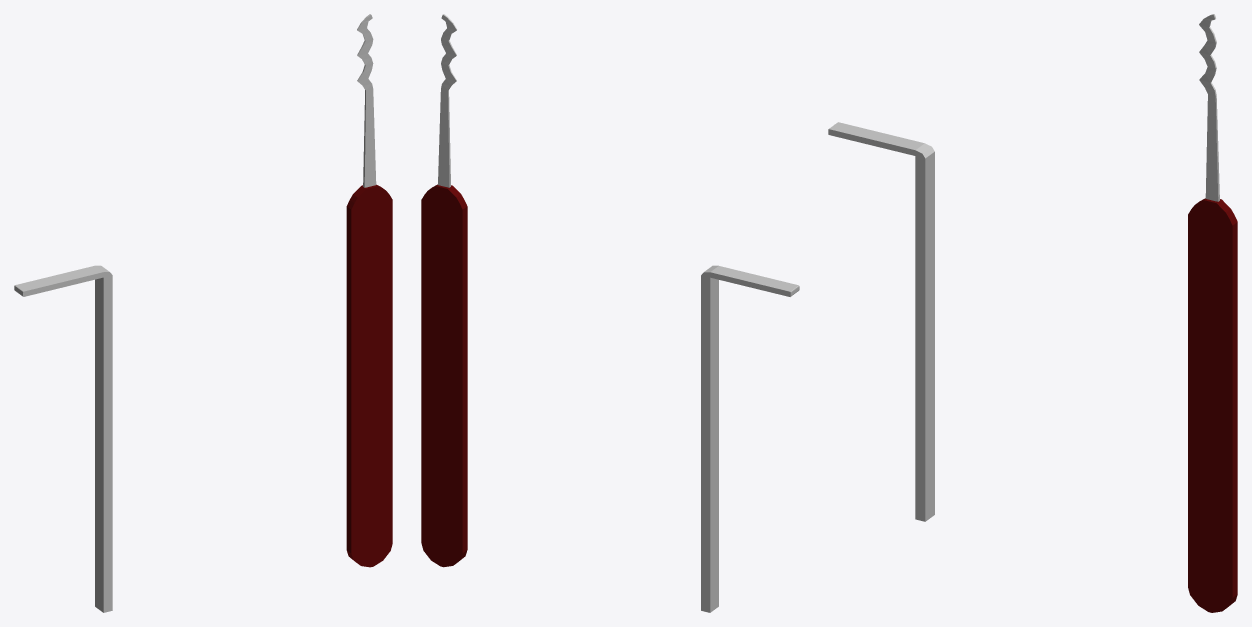
File: lockpick.glb
3 views of the same model, side by side, from view 1: azimuth 30°, elevation 25°; view 2: azimuth 150°, elevation 25°; view 3: azimuth 330°, elevation 25° (orthographic). The views are drawn at different scales.
Size of the model in its own units: 2.12 by 3.01 by 0.0869.
2 materials, 1 textured.
